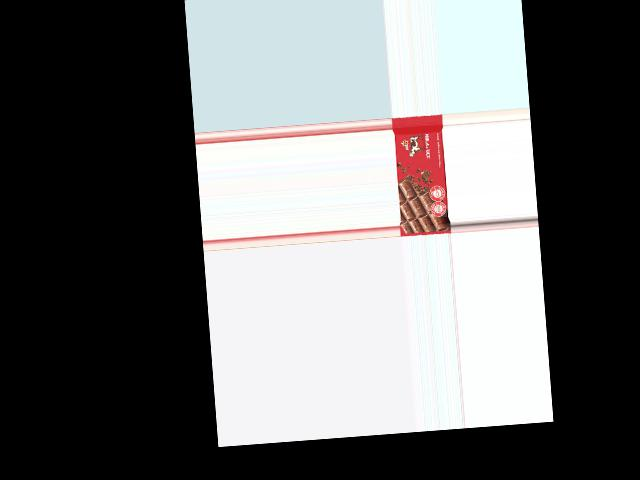chocolate: (392, 113, 451, 235)
